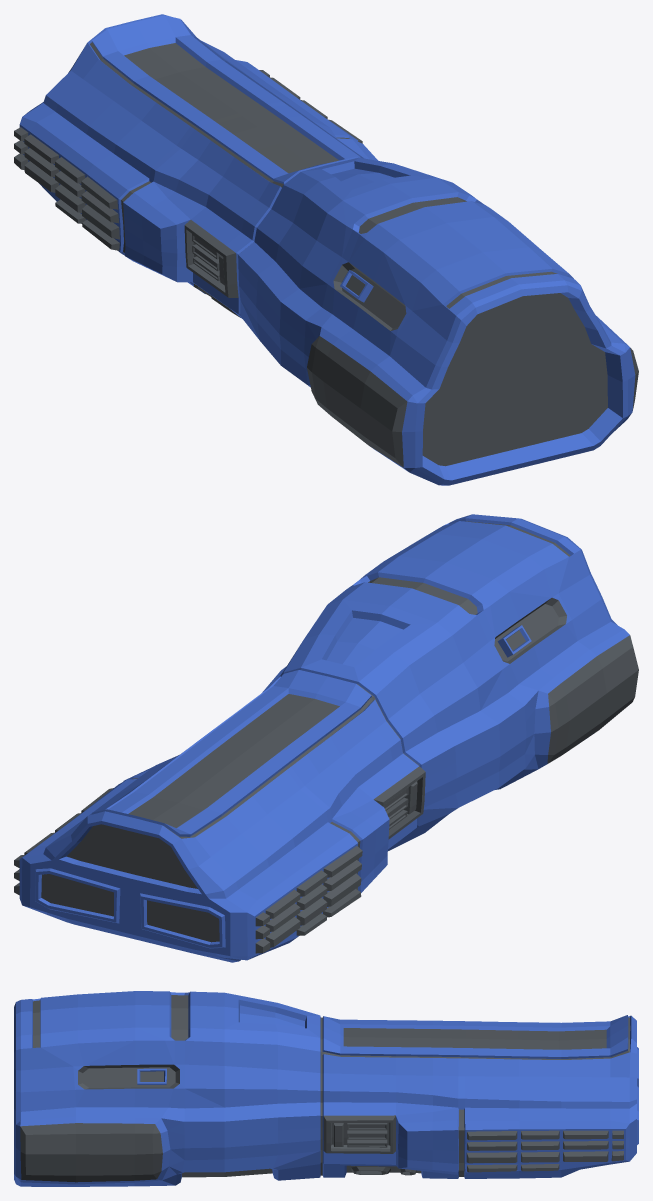
File: Dropship_03__Blue.fbx
3 views of the same model, one above another, from view 1: azimuth 30°, elevation 25°; view 2: azimuth 150°, elevation 25°; view 3: azimuth 270°, elevation 25° (orthographic). The views are drawn at different scales.
Parts seen in each view (by area): view 1: Dropship_03__Blue; view 2: Dropship_03__Blue; view 3: Dropship_03__Blue.
Part boxes in pixels (box(x1,y1,x2,y2)): Dropship_03__Blue: box(14, 14, 638, 485); Dropship_03__Blue: box(14, 514, 638, 962); Dropship_03__Blue: box(14, 991, 638, 1186).
Bounding box in the file's own units: 395 × 287 × 1064.
Materials: 2 (2 with a texture image).
